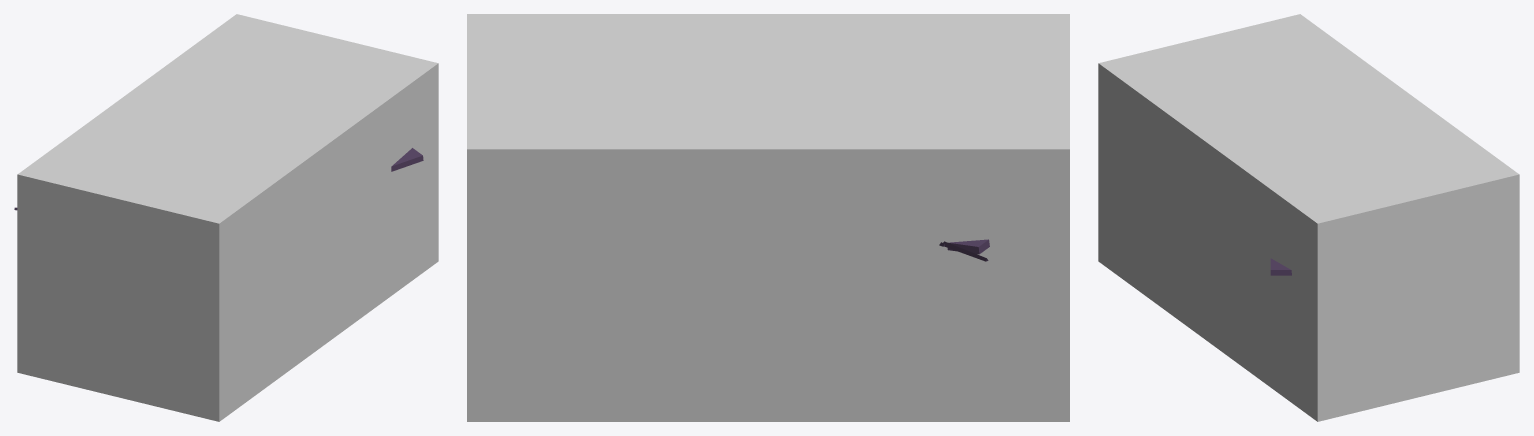
Rendered from plains_bat.fbx.
3 views of the same model, side by side, from view 1: azimuth 30°, elevation 25°; view 2: azimuth 150°, elevation 25°; view 3: azimuth 270°, elevation 25° (orthographic). The views are drawn at different scales.
Parts seen in each view (by area): view 1: Root__0.00_1.25_0.07__5.01_2.50_2.66; view 2: Root__0.00_1.25_0.07__5.01_2.50_2.66, WingR__Body__0.47_1.48_-0.04; view 3: Root__0.00_1.25_0.07__5.01_2.50_2.66.
Boxes of the visible parts, bbox=[...] form: Root__0.00_1.25_0.07__5.01_2.50_2.66: bbox=[17, 14, 438, 421]; Root__0.00_1.25_0.07__5.01_2.50_2.66: bbox=[467, 14, 1069, 421]; WingR__Body__0.47_1.48_-0.04: bbox=[939, 239, 989, 261]; Root__0.00_1.25_0.07__5.01_2.50_2.66: bbox=[1098, 14, 1519, 421].
Bounding box in the file's own units: 159 × 70 × 135.
1 material, 1 textured.
